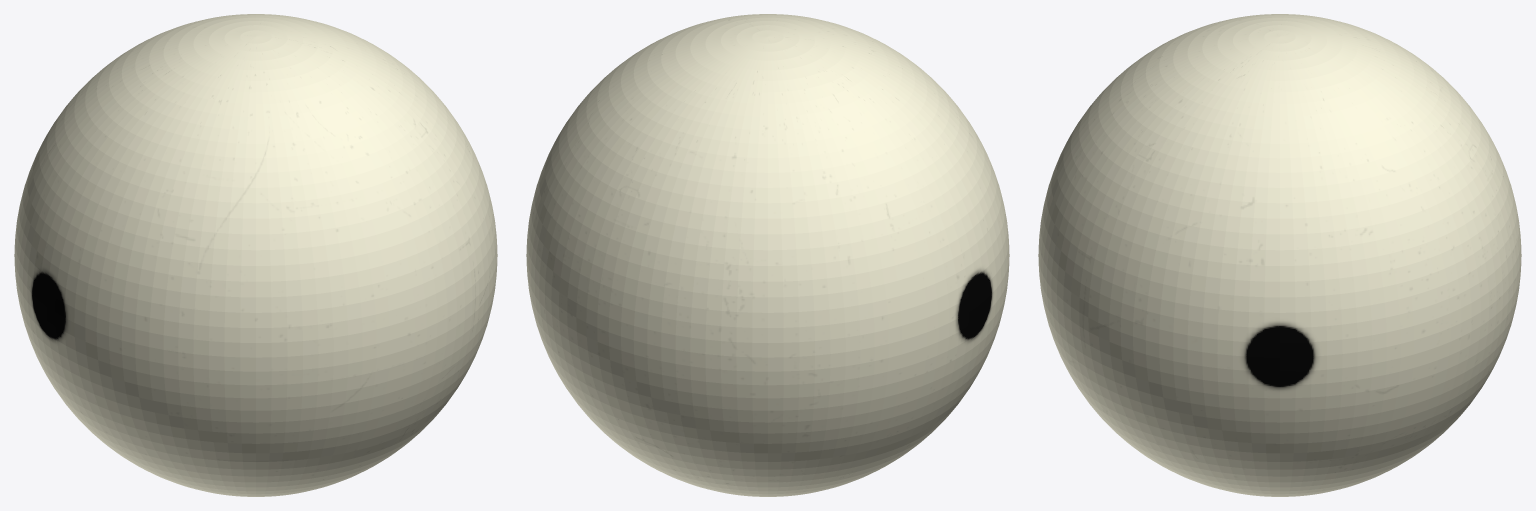
The model's file is cue.glb.
The picture shows the model from 3 angles, left to right: view 1: azimuth 30°, elevation 25°; view 2: azimuth 150°, elevation 25°; view 3: azimuth 270°, elevation 25°; orthographic projection.
Parts seen in each view (by area): view 1: Sphere; view 2: Sphere; view 3: Sphere.
Boxes of the visible parts, left/top/right/bottom form: Sphere: left=14, top=14, right=497, bottom=496; Sphere: left=526, top=14, right=1009, bottom=496; Sphere: left=1038, top=14, right=1521, bottom=496.
Size of the model in its own units: 0.0571 by 0.0571 by 0.0572.
Materials: 1 (1 with a texture image).
